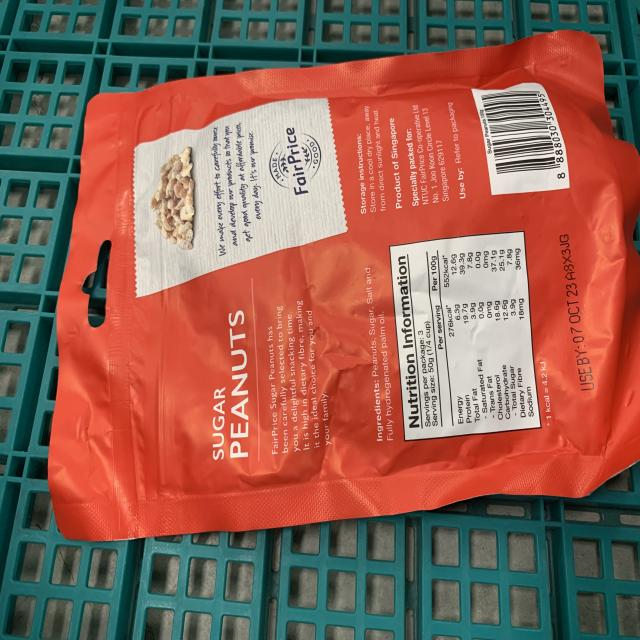object_name: (76, 75, 634, 496)
